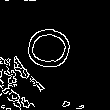O_E: (29, 33, 81, 77)
